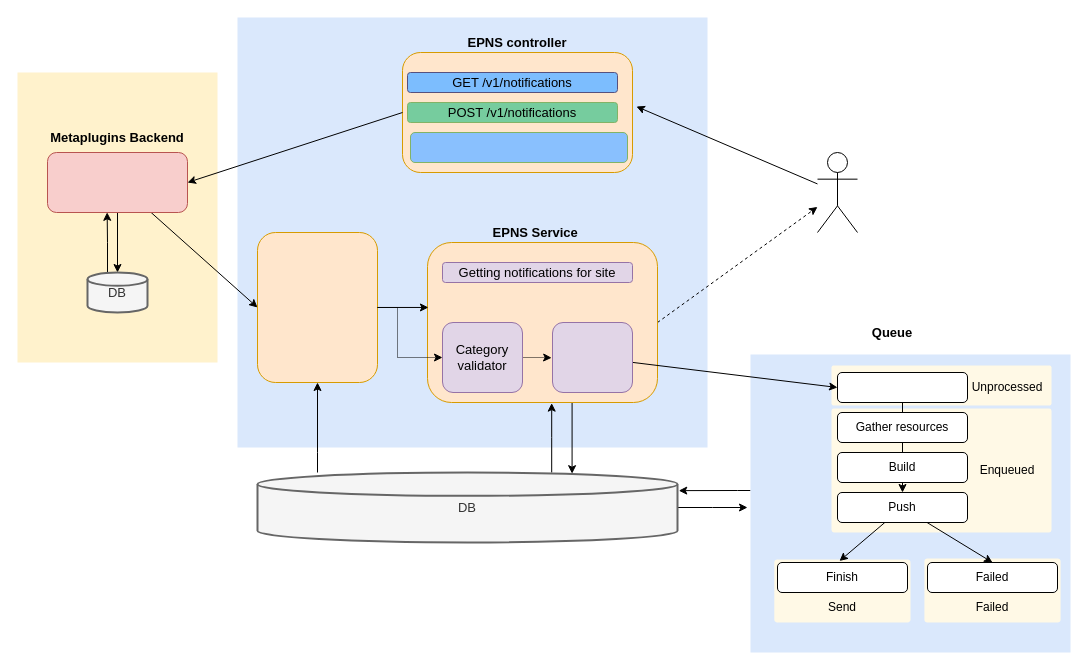
This 1087x669 diagram has some shape labels left out. The centre of each missing label's shape, as x and y in pixels:
"Actor" belongs at (x=837, y=192).
"Add new notification" belongs at (x=592, y=357).
"EPNS Site Registration validator" belongs at (x=317, y=307).
"GET /v1/notifications/{:notificationID}" belongs at (x=519, y=147).
"Initialize" belongs at (x=902, y=387).
"Signed JWT Validator" belongs at (x=117, y=182).
